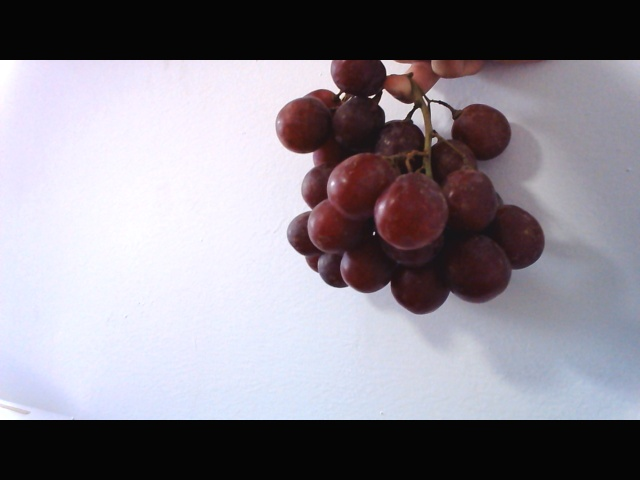grape: (267, 68, 569, 320)
